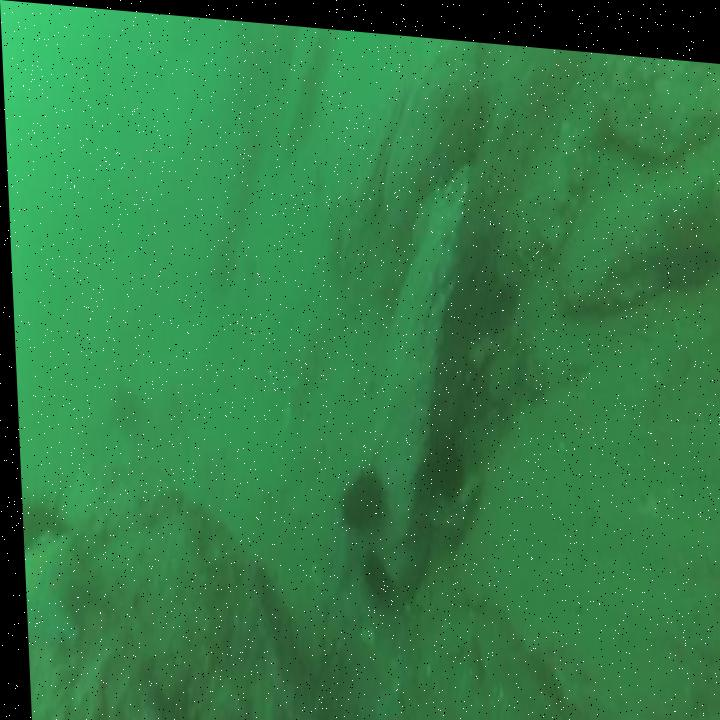echinus: (332, 447, 385, 534), (418, 427, 467, 501), (348, 535, 390, 600)
